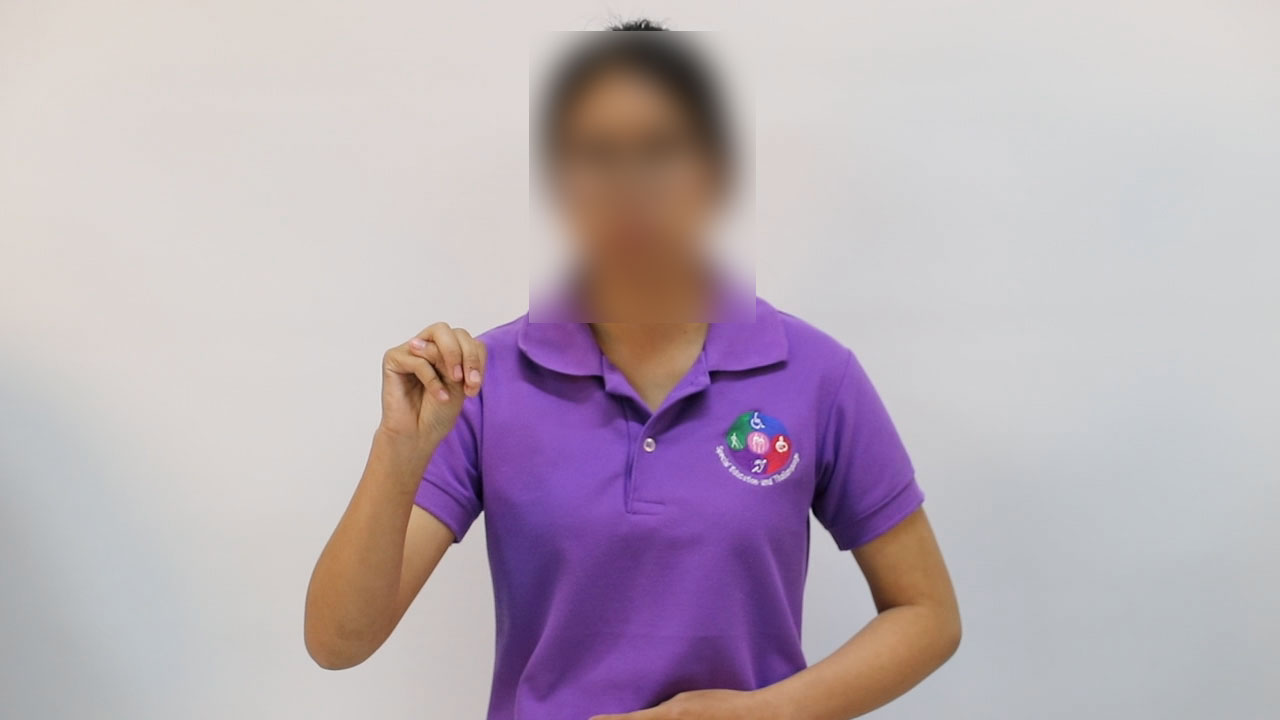mor: (375, 296, 494, 461)
